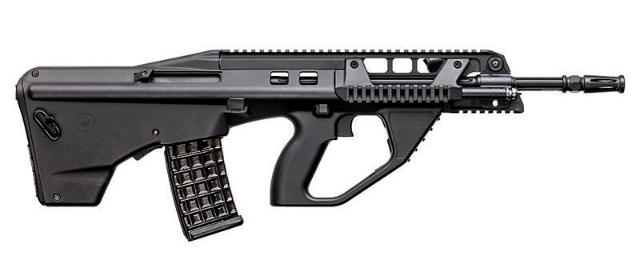rifle: (8, 36, 626, 248)
